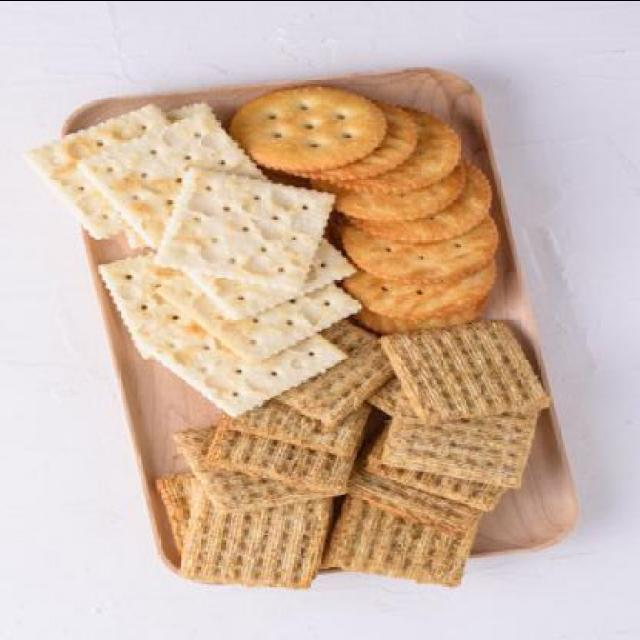Cracker packaged: (137, 324, 557, 592), (49, 62, 320, 416)
Ritz cracker packaged: (225, 66, 509, 337)
